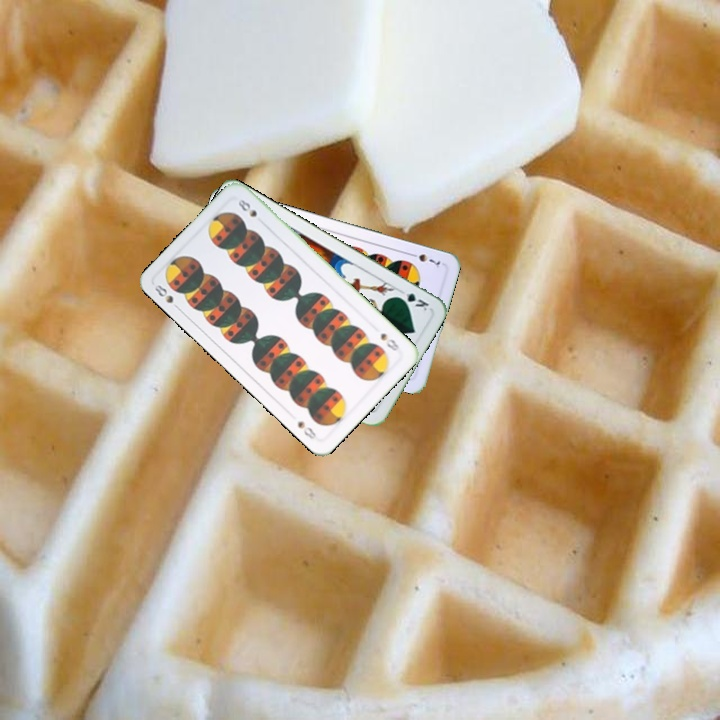GK: (393, 286, 432, 314)
S7: (405, 249, 443, 270)
S8: (151, 280, 183, 313), (376, 329, 402, 354)
